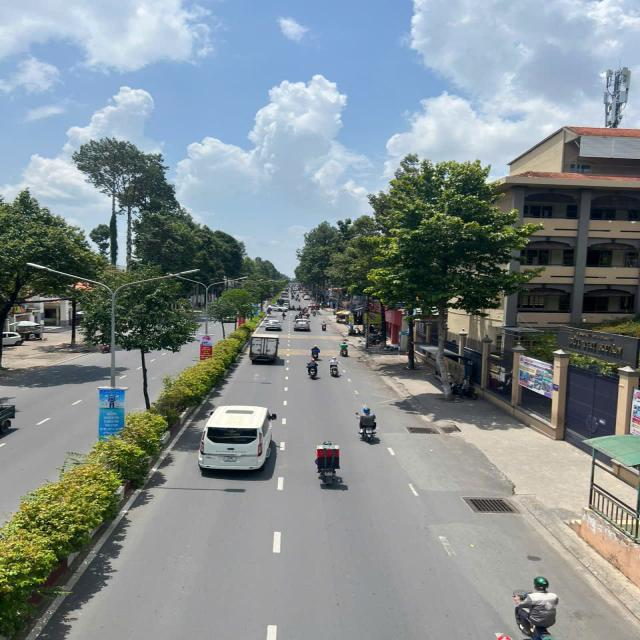ben: (245, 330, 287, 369)
car: (198, 403, 281, 475), (293, 315, 312, 334), (264, 316, 284, 332), (267, 301, 288, 314)
motobyte: (314, 439, 346, 491), (353, 405, 382, 446), (305, 356, 322, 381), (328, 355, 341, 379), (337, 339, 352, 359), (309, 343, 321, 361), (320, 317, 330, 333)
